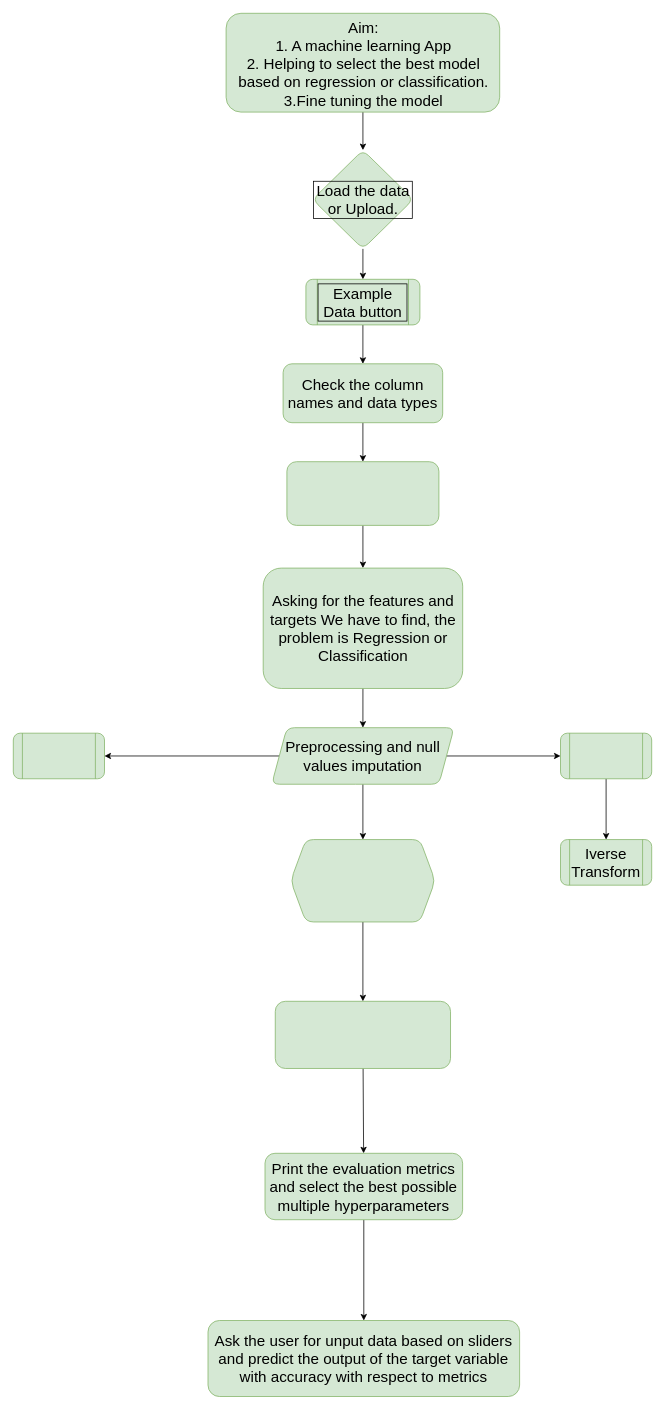
Image size: 665x1410. Some labels were removed from this diagram. The shapes that lost their labels are listed below. From the top down, each one's centre as x and y in pixels, then its label:
[362,493]: Asking for the Features and targets
[58,755]: Feature Selection
[606,755]: Feature Encoding
[362,880]: Select the Model from all regressor or classifier model
[363,1034]: Add the evaluation metrics based on problem
